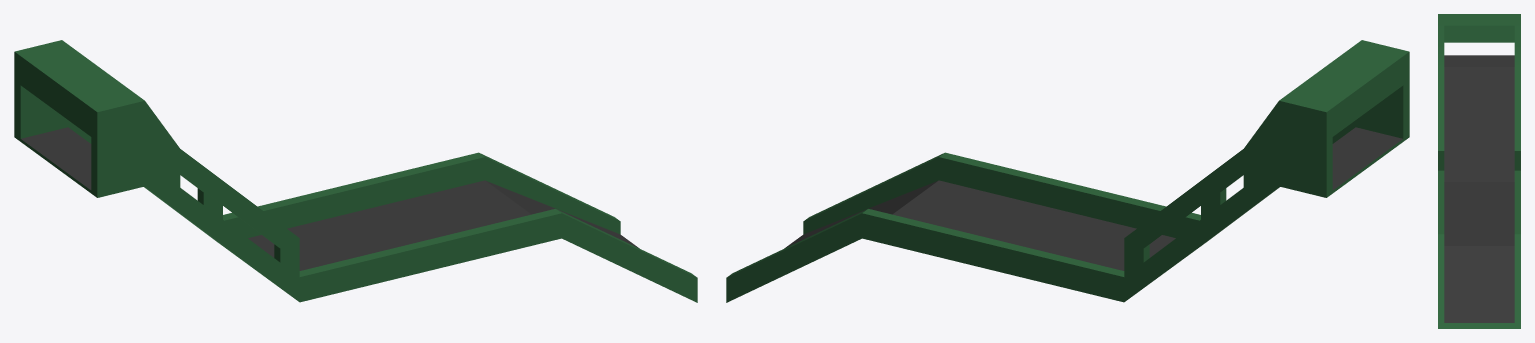
File: conveer.fbx
3 renders of one model, left to right at view 1: azimuth 30°, elevation 25°; view 2: azimuth 150°, elevation 25°; view 3: azimuth 270°, elevation 25°, orthographic. The views are drawn at different scales.
Visible parts, largest first — view 1: conveer; view 2: conveer; view 3: conveer.
Boxes of the visible parts, x1,y1,x2,y2 form: conveer: (14, 40, 697, 302); conveer: (726, 40, 1409, 302); conveer: (1438, 14, 1520, 328).
Bounding box in the file's own units: 120 × 64.49 × 28.76.
Materials: 2 (2 with a texture image).
